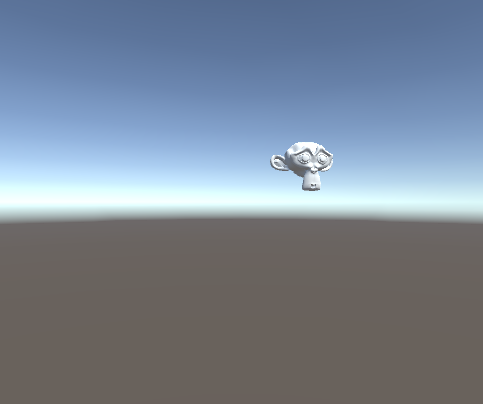monkey: (269, 138, 336, 193)
